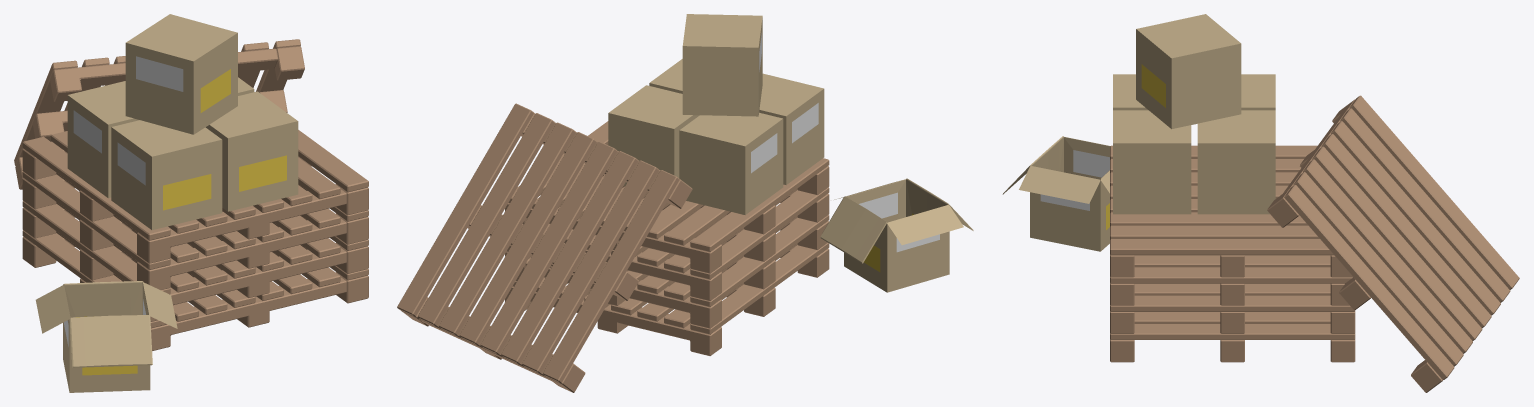
Rendered from serv_log-draco.glb.
The picture shows the model from 3 angles, left to right: view 1: azimuth 30°, elevation 25°; view 2: azimuth 150°, elevation 25°; view 3: azimuth 270°, elevation 25°; orthographic projection. The views are drawn at different scales.
Parts seen in each view (by area): view 1: Serv_log; view 2: Serv_log; view 3: Serv_log.
Boxes of the visible parts, x1=… form: Serv_log: x1=14, y1=14, x2=368, y2=392; Serv_log: x1=397, y1=14, x2=973, y2=392; Serv_log: x1=1002, y1=14, x2=1519, y2=392.
Size of the model in its own units: 5.62 by 3.5 by 6.33.
